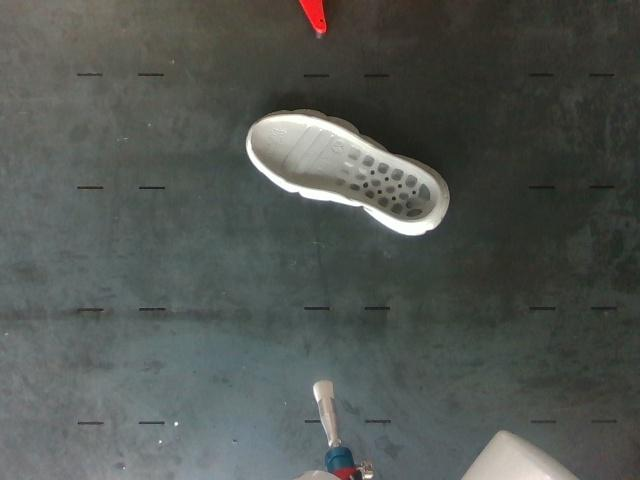shoes: (251, 115, 440, 223)
